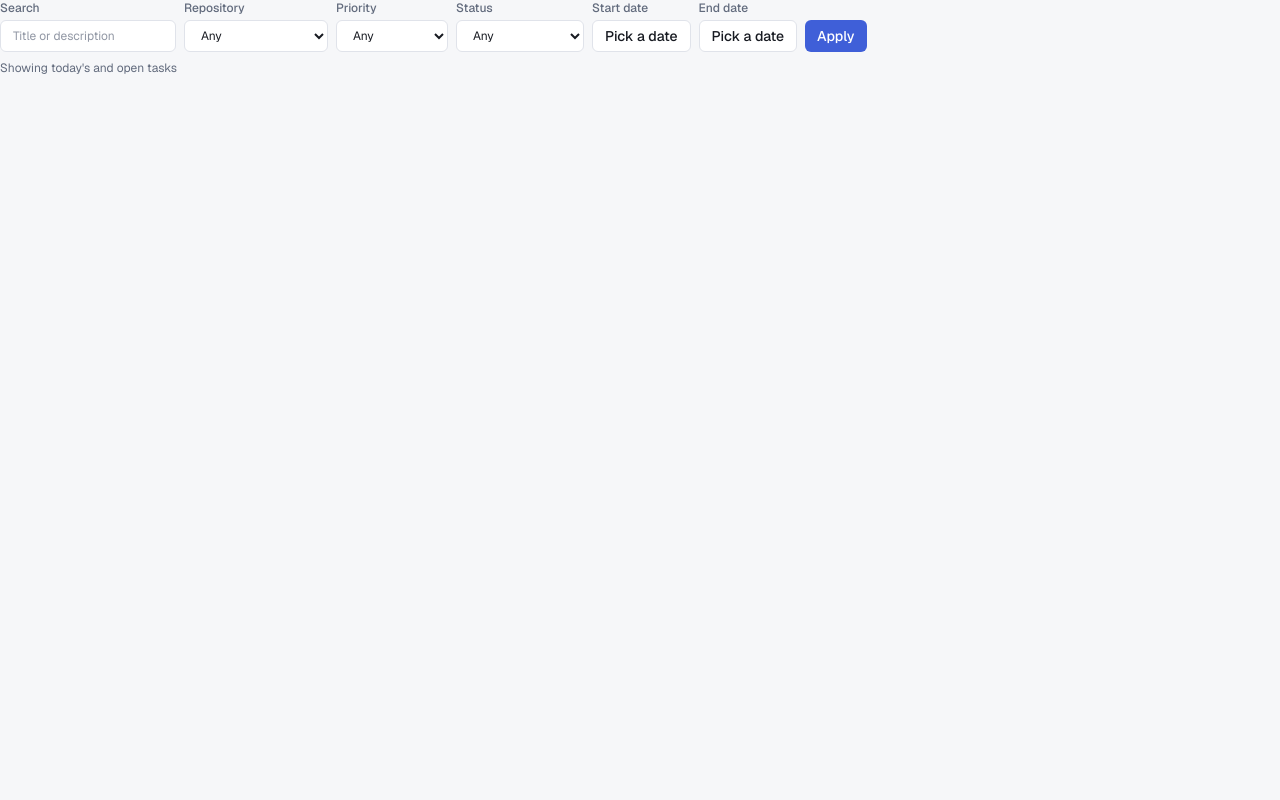
Test: invalid range › rejects an end date before the start date without navigating
Click the button with aria-label "Start date" at (641,36), box [592,20,690,52]
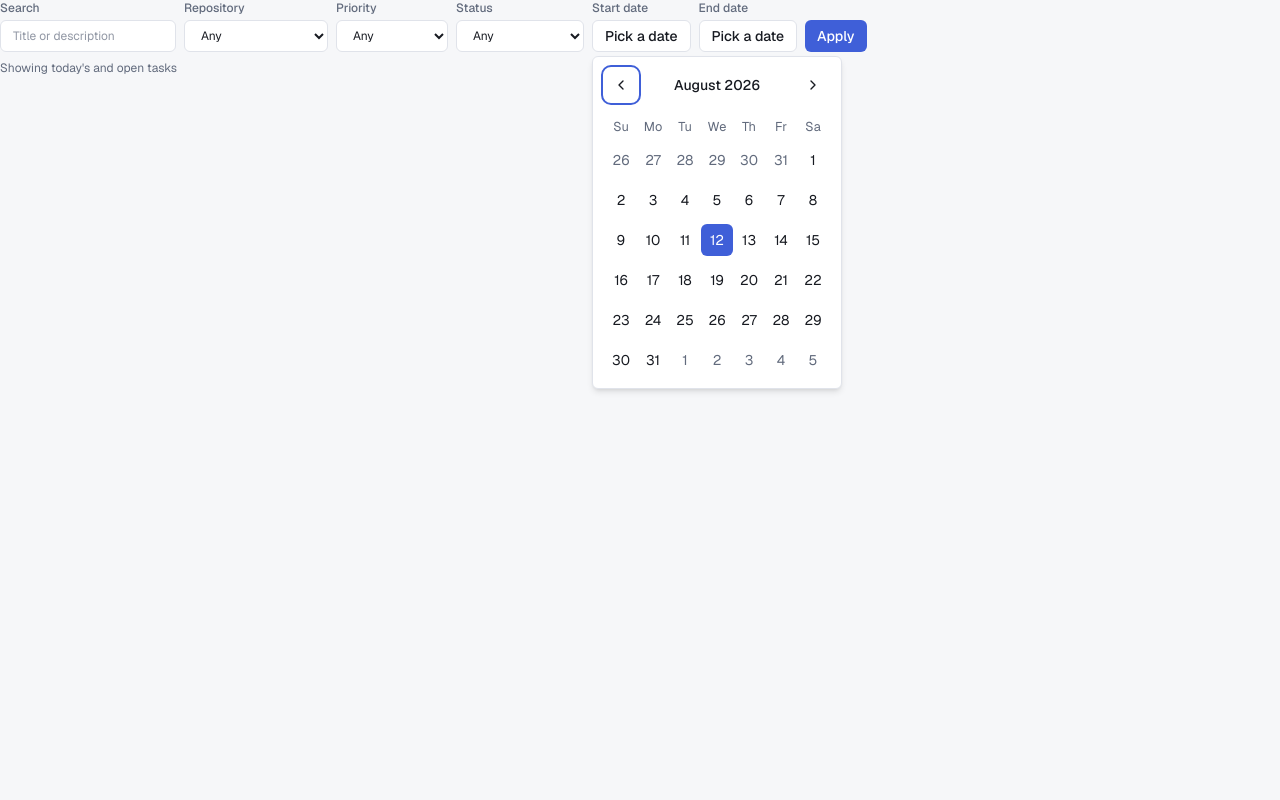
Click the button "20" at (749,280), box [733,264,765,296]
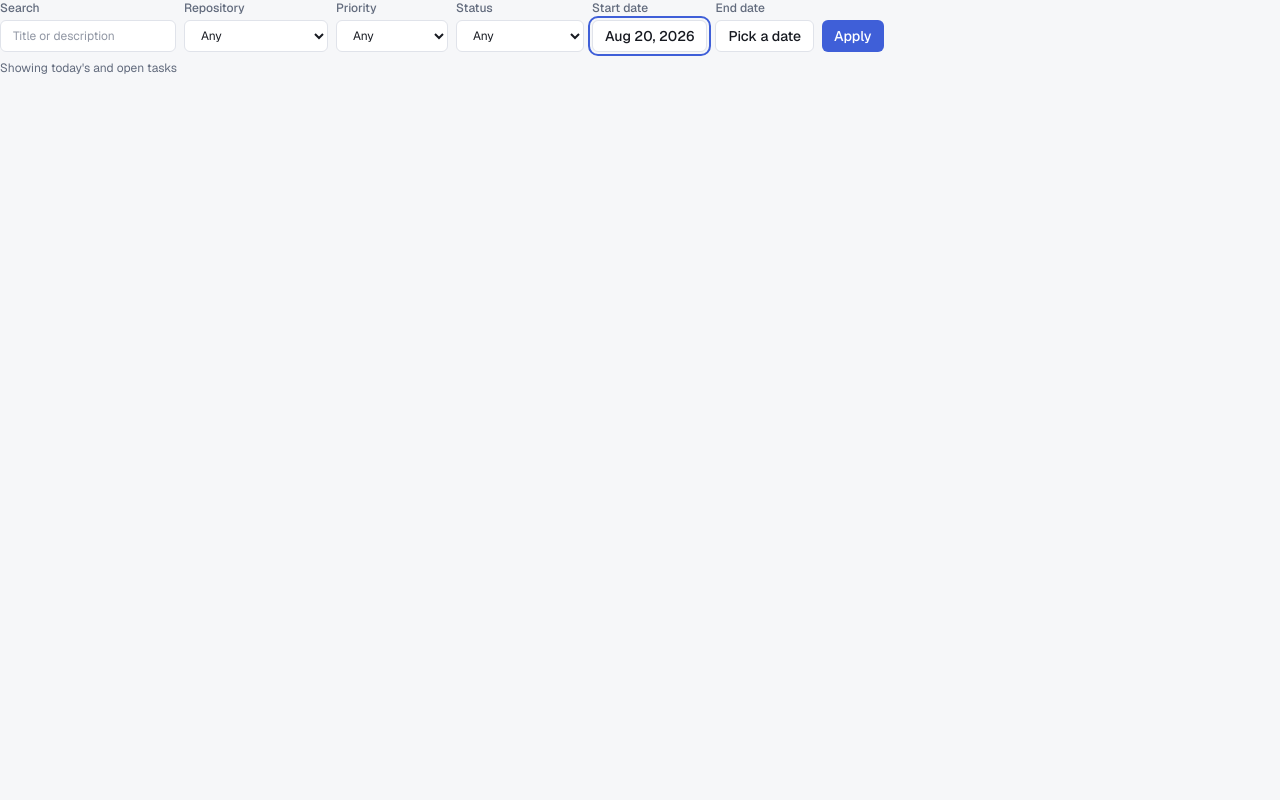
Click the button with aria-label "End date" at (765,36), box [716,20,814,52]
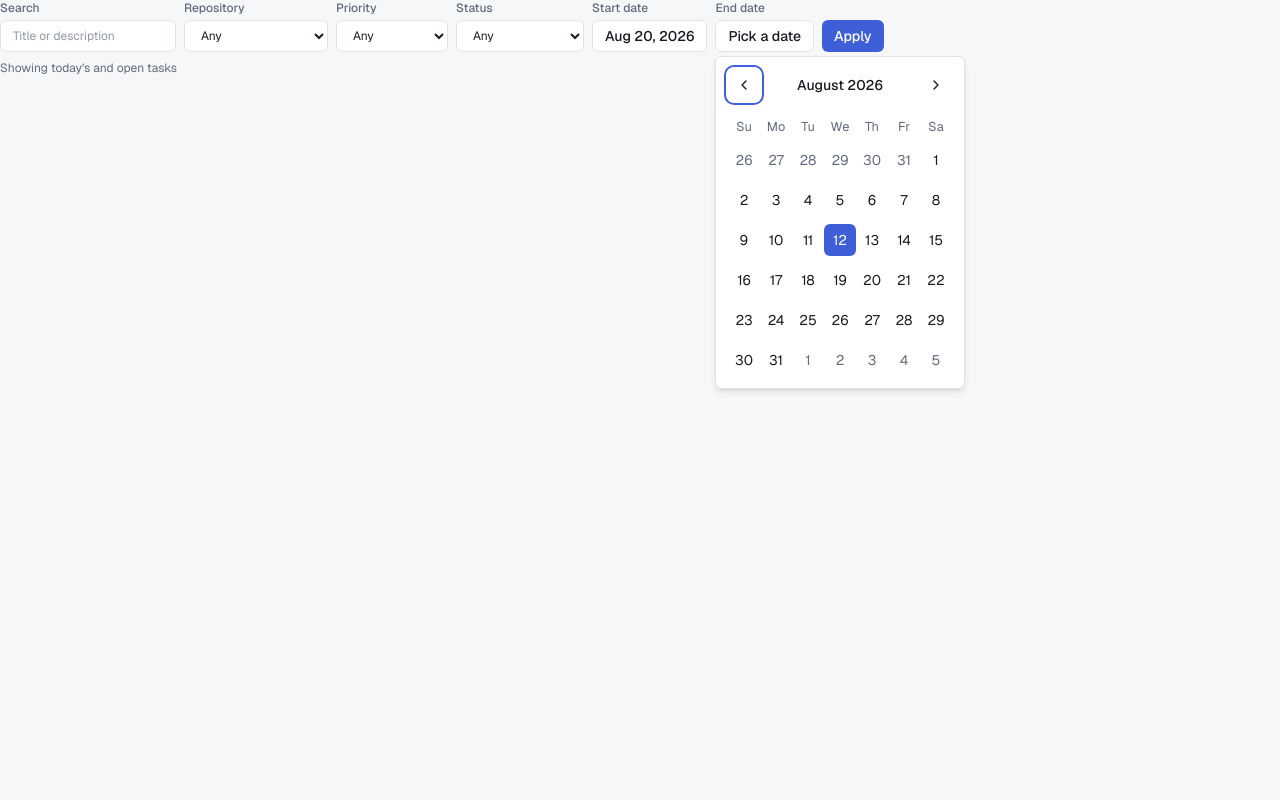
Click the button "10" at (776,240), box [760,224,792,256]
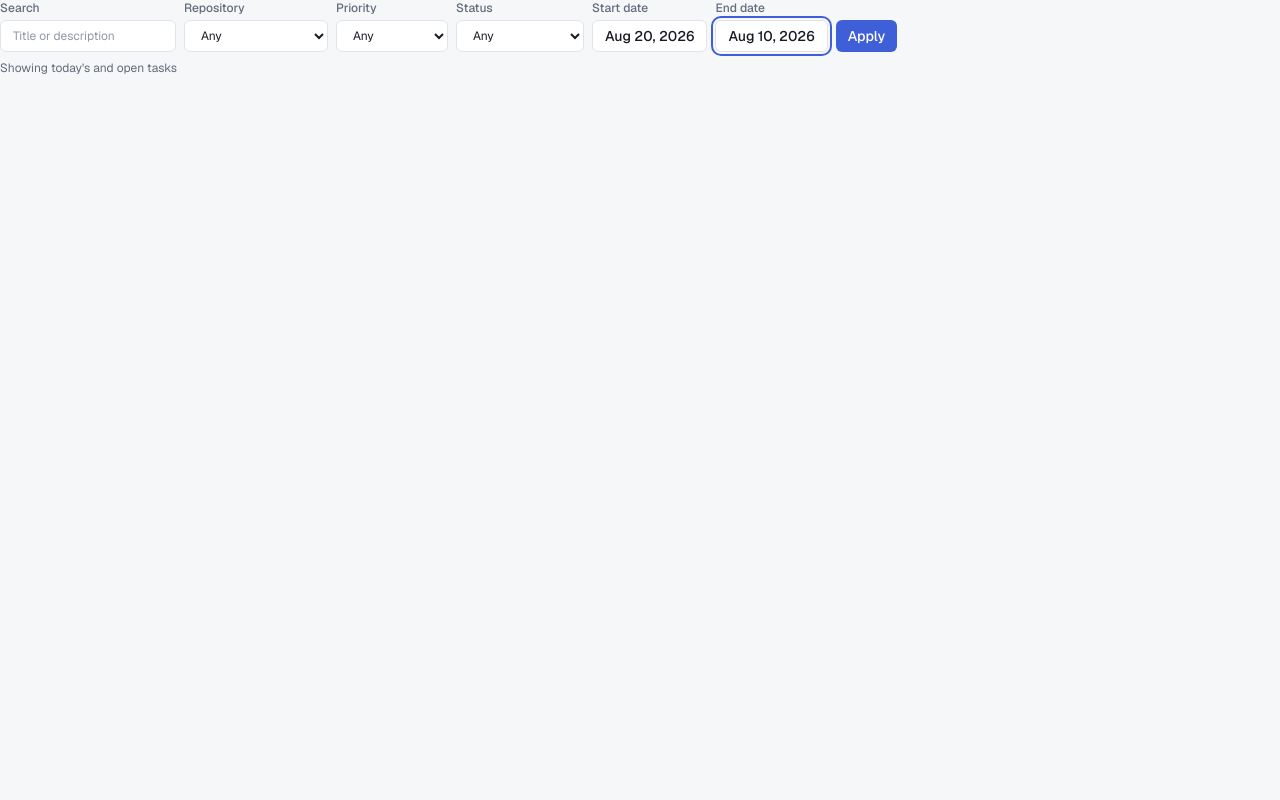
Click the button "Apply" at (866,36), box [836,20,897,52]
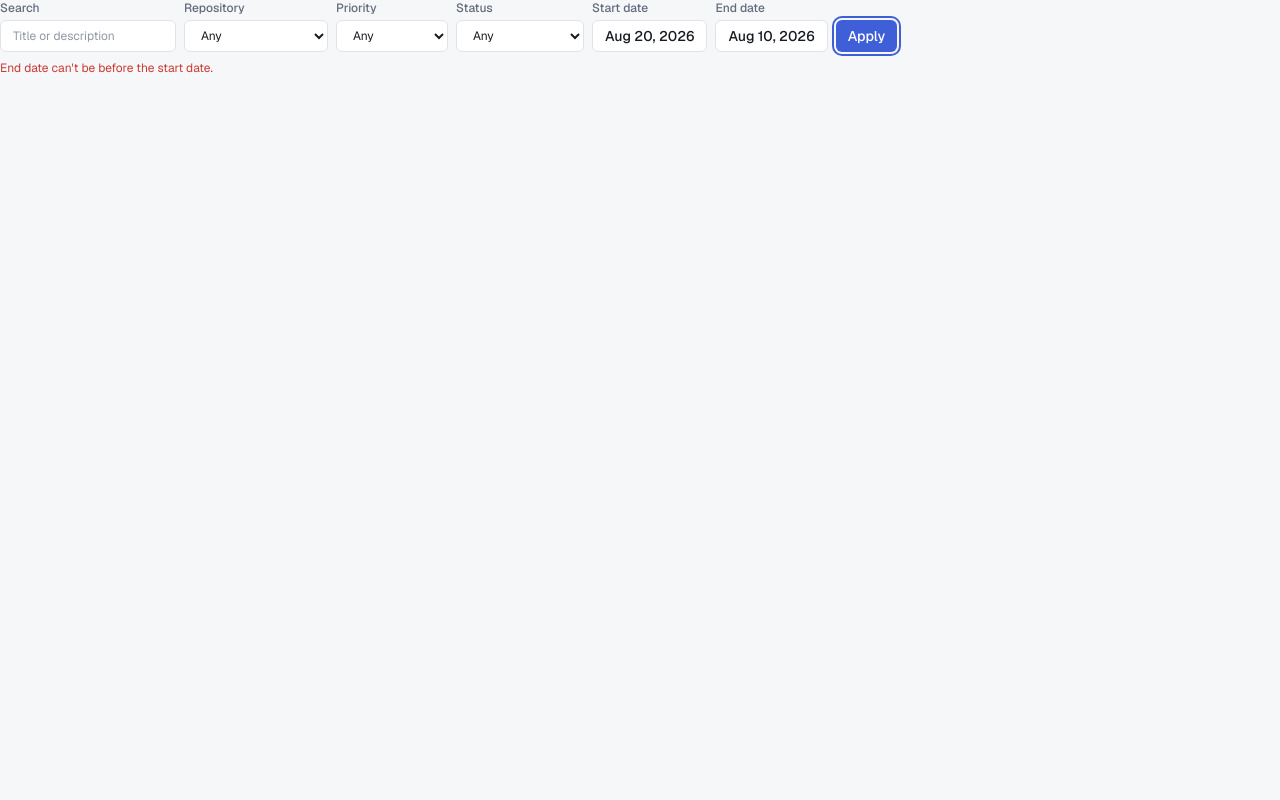
Check: the text "End date can't be before the start date." is shown, box [0,60,213,76]
